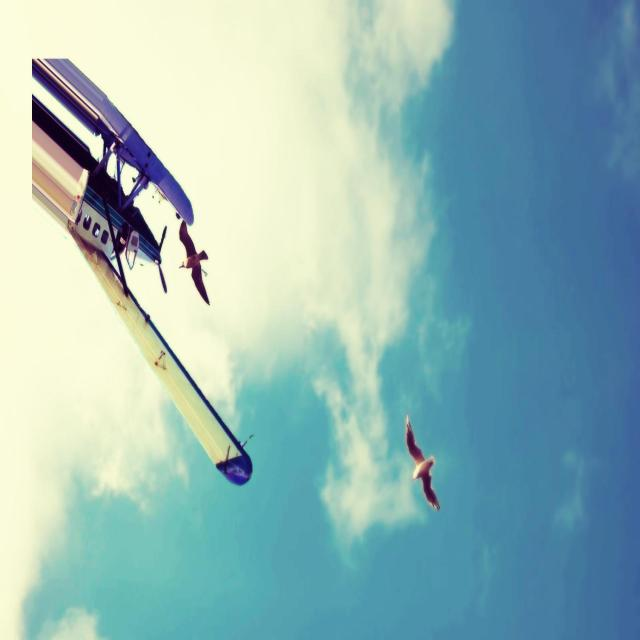airplane: (32, 58, 254, 490)
